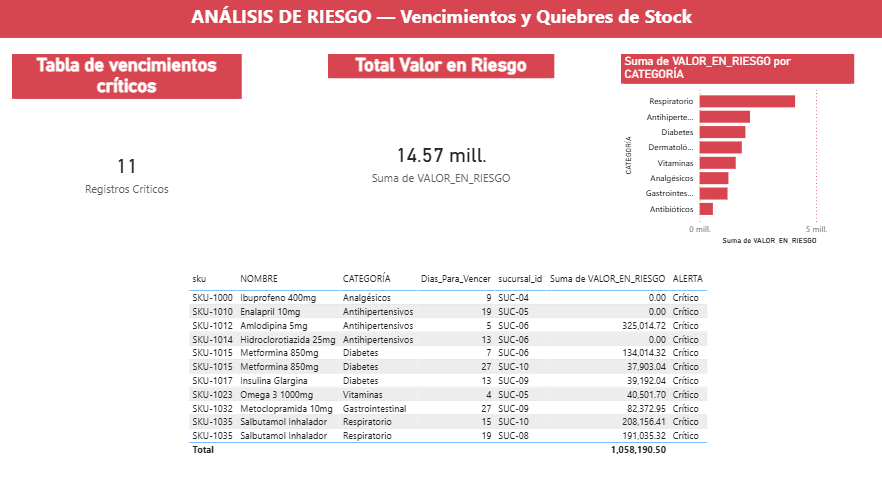

Layout of this report page (visuals, bound fields, positions):
{"tool":"powerbi","page":{"name":"Análisis de Riesgo","canvas":[1280,720],"ordinal":1},"visuals":[{"type":"card","title":"Tabla de vencimientos críticos","fields":{"Values":["KPI_maestro.Registros Criticos"]},"box":[16.8,79,332.6,280.5],"z":0},{"type":"barChart","fields":{"Y":["Sum(Vencimientos1.VALOR_EN_RIESGO)"],"Category":["Vencimientos1.CATEGORÍA"]},"box":[900.4,79,337.6,280.5],"z":1000},{"type":"card","title":"Total Valor en Riesgo","fields":{"Values":["Sum(Vencimientos1.VALOR_EN_RIESGO)"]},"box":[475.4,79,327.6,280.5],"z":2000},{"type":"tableEx","fields":{"Values":["Vencimientos1.sku","Vencimientos1.NOMBRE","Vencimientos1.CATEGORÍA","Vencimientos1.Dias_Para_Vencer","Vencimientos1.sucursal_id","Sum(Vencimientos1.VALOR_EN_RIESGO)","Vencimientos1.ALERTA"]},"box":[268.8,388,774.4,319.2],"z":3000},{"type":"textbox","box":[0,0,1280,55.4],"z":4000}]}

Visuals, with their boxes in screenshot pixels (x1, y1, x2, y2), scaled from the page's 1280x720 canvas onto the 882x492 screenshot:
"Tabla de vencimientos críticos" card: Rect(12, 54, 241, 246)
barChart - Sum(Vencimientos1.VALOR_EN_RIESGO) x Vencimientos1.CATEGORÍA: Rect(620, 54, 853, 246)
"Total Valor en Riesgo" card: Rect(328, 54, 553, 246)
tableEx - Vencimientos1.sku x Vencimientos1.NOMBRE: Rect(185, 265, 719, 483)
textbox: Rect(0, 0, 881, 38)
